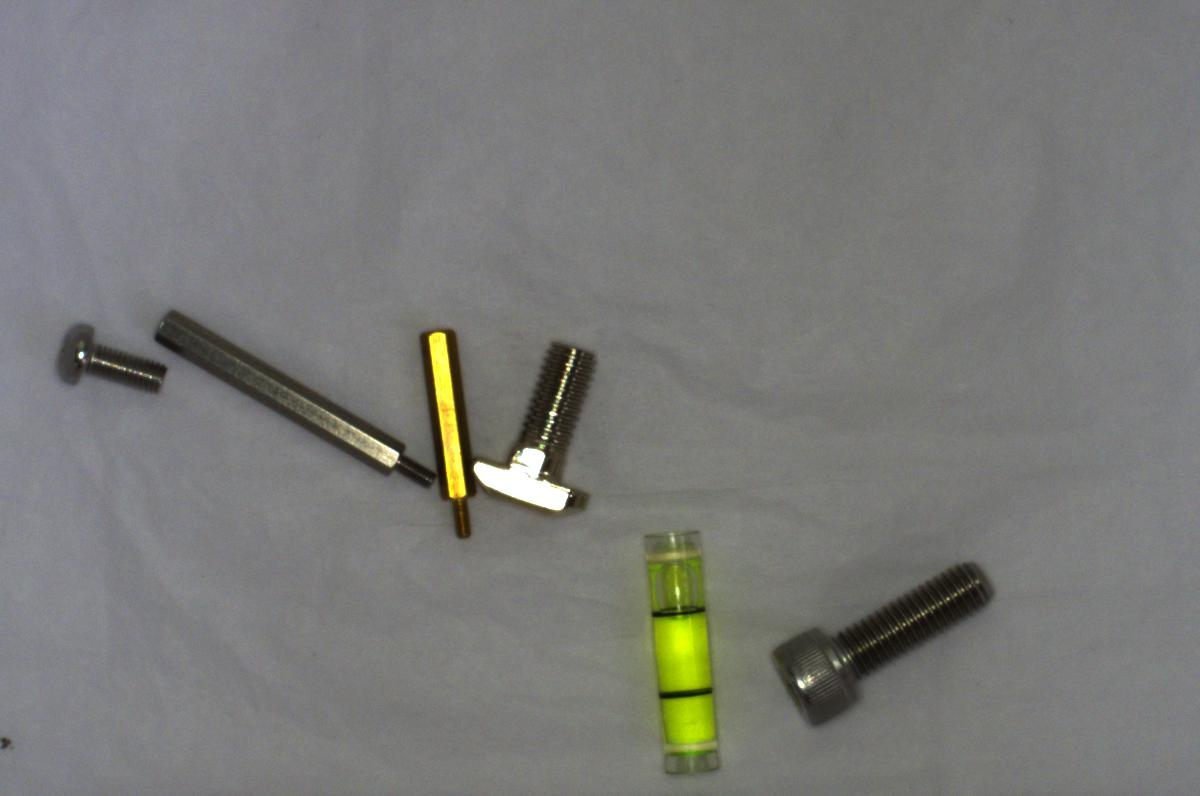Hexagon pillar: (415, 323, 477, 543)
Hexagon screw: (762, 556, 1006, 734)
Hexagonal steel column: (148, 308, 439, 494)
Horizontal bubble: (630, 519, 735, 788)
Round head screw: (50, 315, 170, 398)
T-shaped screw: (472, 334, 600, 526)
